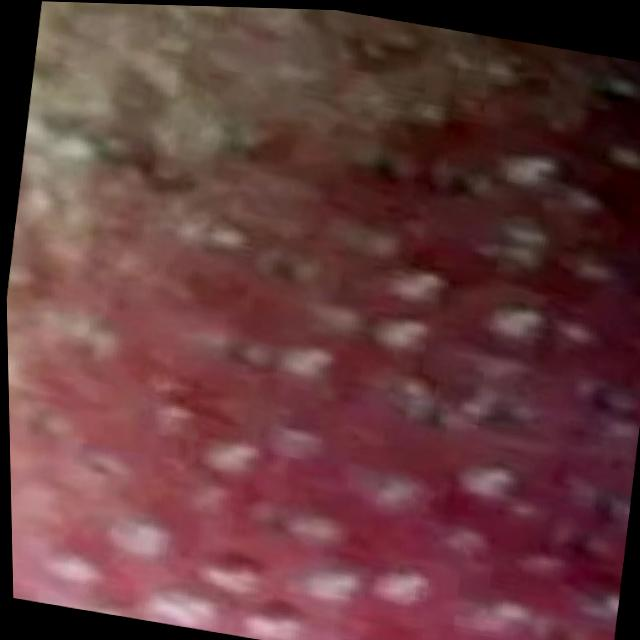whitehead: (5, 1, 640, 640)
